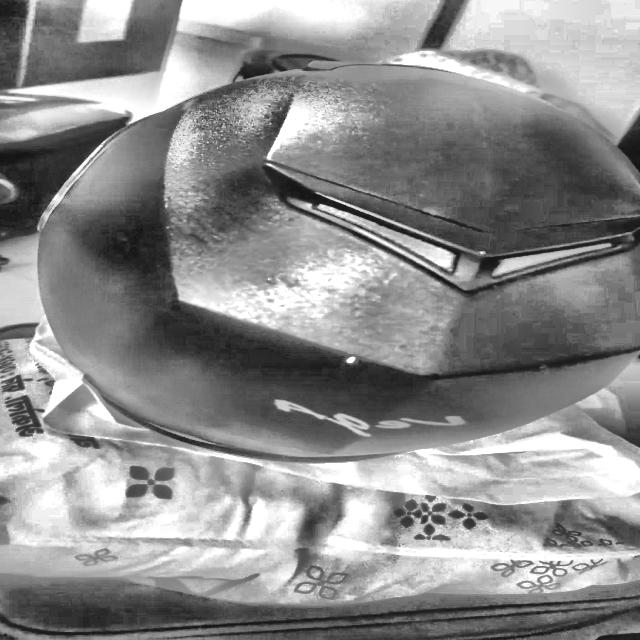Helmet: (20, 56, 640, 482)
